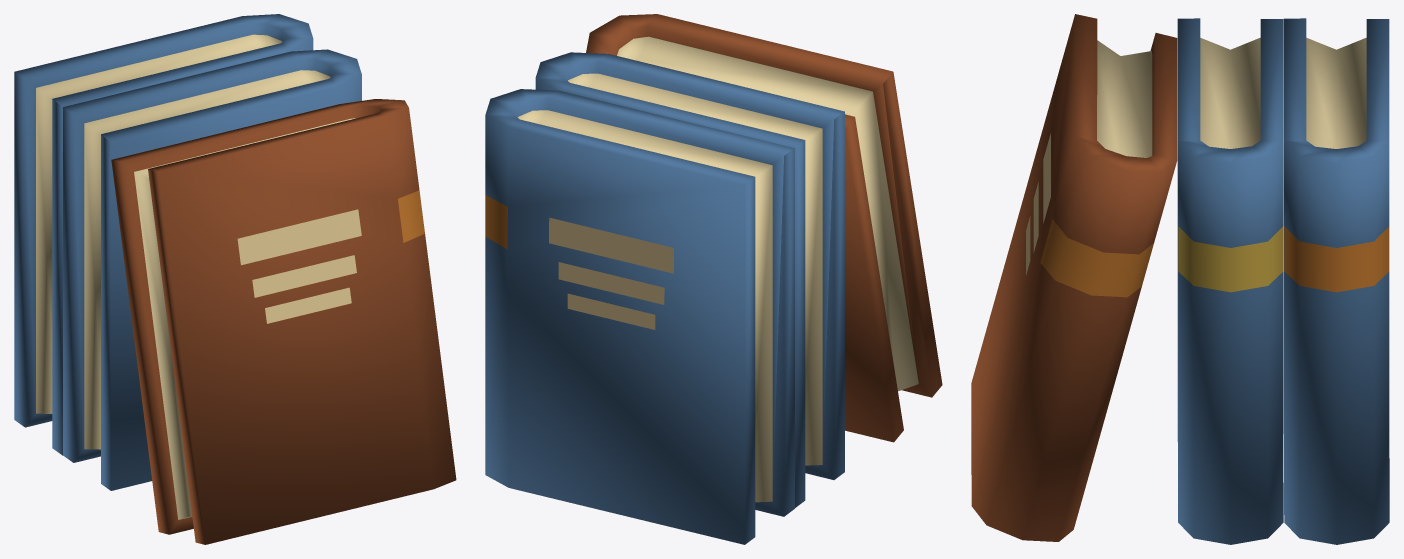
The model's file is rpgpp_ag_book_pille_01c.fbx.
The picture shows the model from 3 angles, left to right: view 1: azimuth 30°, elevation 25°; view 2: azimuth 150°, elevation 25°; view 3: azimuth 270°, elevation 25°; orthographic projection. The views are drawn at different scales.
Parts seen in each view (by area): view 1: rpgpp_ag_book_pille_01c; view 2: rpgpp_ag_book_pille_01c; view 3: rpgpp_ag_book_pille_01c.
Boxes of the visible parts, x1,y1,x2,y2 form: rpgpp_ag_book_pille_01c: [14, 14, 456, 544]; rpgpp_ag_book_pille_01c: [485, 14, 942, 544]; rpgpp_ag_book_pille_01c: [971, 14, 1389, 544].
Size of the model in its own units: 0.2437 by 0.31 by 0.2988.
